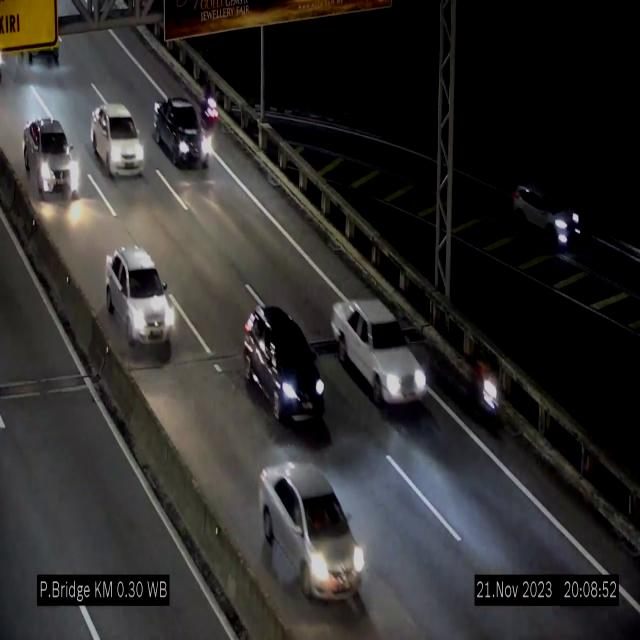Car: (260, 452, 364, 596), (238, 305, 330, 435), (330, 299, 432, 407), (106, 246, 175, 356), (18, 111, 80, 212), (153, 99, 213, 174), (92, 104, 144, 177)
Motorcycle: (466, 347, 498, 441), (201, 85, 219, 131)
